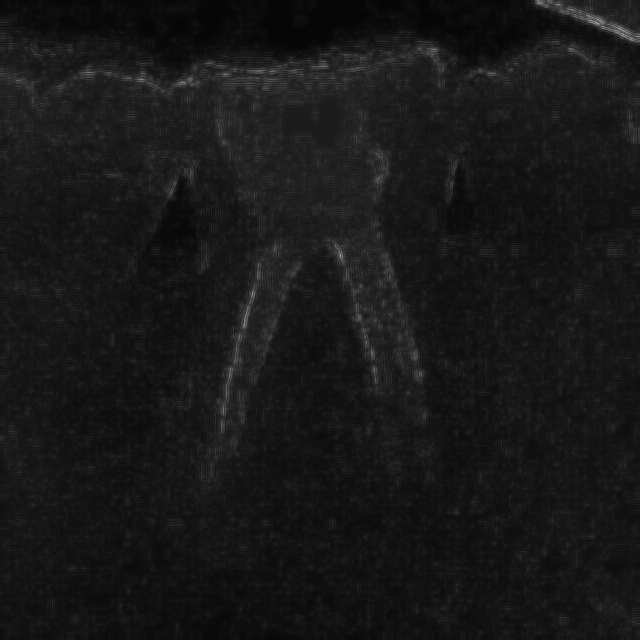Class 0- No endodontic treatment: (157, 37, 520, 578)
